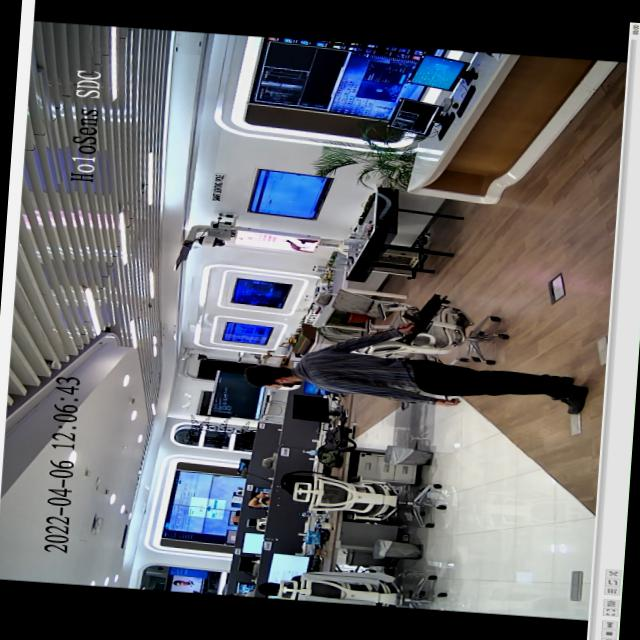long weapon: (392, 290, 457, 348)
